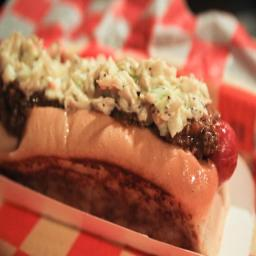hotdog: (0, 29, 242, 225)
